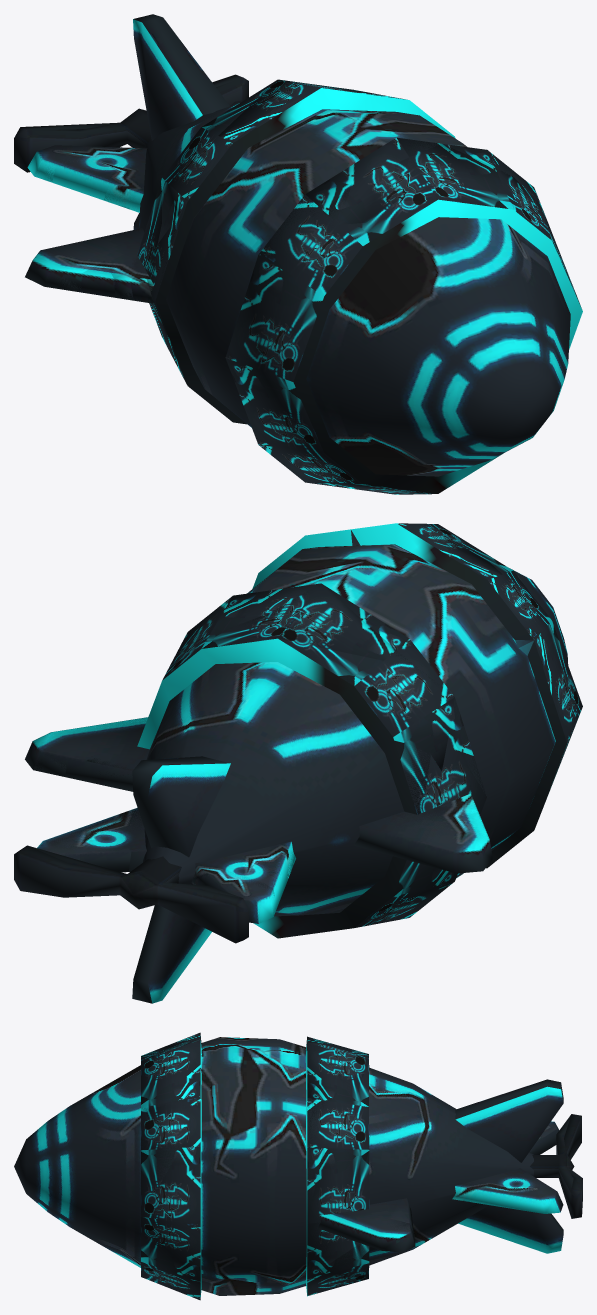
File: DDT.fbx
3 renders of one model, top to bottom at view 1: azimuth 30°, elevation 25°; view 2: azimuth 150°, elevation 25°; view 3: azimuth 270°, elevation 25°, orthographic. The views are drawn at different scales.
Parts seen in each view (by area): view 1: Body, Fortification, Fortification4, Fortification2, FinRightDamage, BrokenPropeller, FinRight, Fortification3, Body3, Fortification1, Propeller; view 2: Body, Fortification, Fortification1, Fortification4, FinRight, BrokenPropeller, Fortification2, Fortification3, Propeller, FinRightDamage, Body2, Body3 (+1 smaller); view 3: Body, Fortification, Fortification2, Fortification4, Fortification3, Fortification1, Body1, BrokenPropeller, Propeller, Body2.
Part boxes in pixels (x1,y1,x2,y2): Body: (27, 14, 570, 476); Fortification: (137, 80, 582, 494); Fortification4: (191, 79, 513, 255); Fortification2: (259, 85, 437, 259); FinRightDamage: (41, 228, 154, 302); BrokenPropeller: (14, 74, 248, 172); FinRight: (25, 228, 154, 303); Fortification3: (137, 168, 550, 296); Body3: (35, 145, 145, 212); Fortification1: (204, 87, 581, 307); Propeller: (20, 78, 243, 130); Body: (25, 544, 568, 1003); Fortification: (162, 523, 582, 938); Fortification1: (137, 638, 417, 927); Fortification4: (209, 523, 533, 694); FinRight: (354, 793, 492, 873); BrokenPropeller: (14, 845, 248, 943); Fortification2: (209, 523, 502, 638); Fortification3: (393, 697, 486, 814); Propeller: (28, 845, 242, 943); FinRightDamage: (360, 797, 488, 851); Body2: (45, 808, 146, 871); Body3: (199, 843, 295, 915); Body: (14, 1037, 563, 1295); Fortification: (141, 1036, 369, 1300); Fortification2: (143, 1032, 369, 1277); Fortification4: (141, 1040, 368, 1222); Fortification3: (141, 1100, 367, 1280); Fortification1: (141, 1040, 369, 1222); Body1: (322, 1199, 415, 1244); BrokenPropeller: (530, 1114, 582, 1218); Propeller: (558, 1114, 581, 1218); Body2: (457, 1177, 548, 1199).
Size of the model in its own units: 35.34 by 26.31 by 53.46.
1 material, 1 textured.
